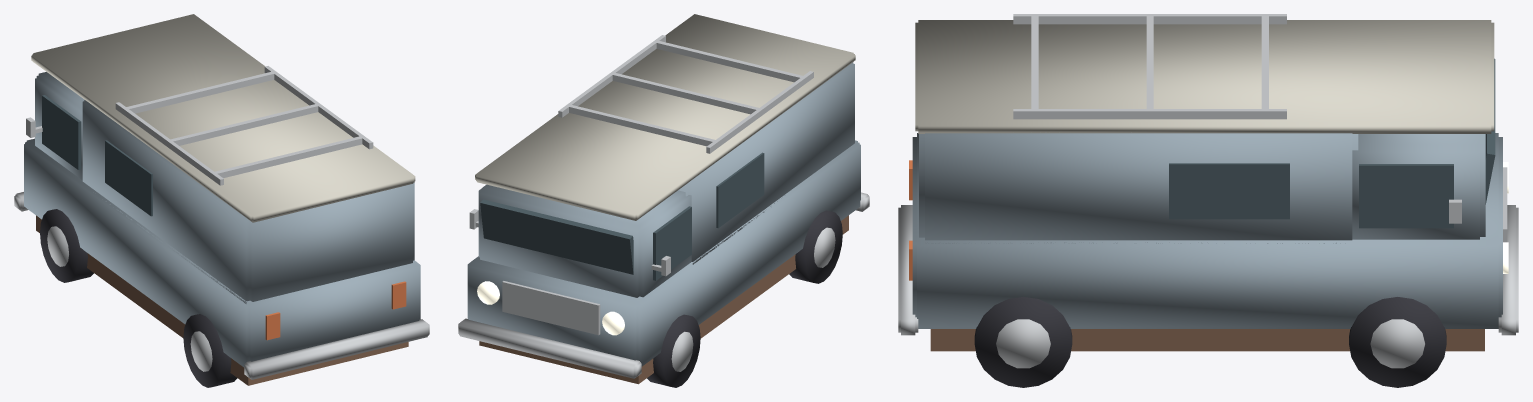
File: lada_van.glb
3 renders of one model, left to right at view 1: azimuth 30°, elevation 25°; view 2: azimuth 150°, elevation 25°; view 3: azimuth 270°, elevation 25°, orthographic. The views are drawn at different scales.
Visible parts, largest first — view 1: RoofPanel, UpperVanShell, LowerBody, RearBumper, Chassis, CargoSlotGlass_L, DoorGlass_L, Tire_-0.8_-1.3, Tire_-0.8_1.3, CabUpper, RoofBar_-0.4, RoofBar_-1.2 (+7 smaller); view 2: RoofPanel, LowerBody, UpperVanShell, CabUpper, Windshield, FrontBumper, Grille, Chassis, CargoSlotGlass_L, Tire_-0.8_-1.3, Tire_-0.8_1.3, DoorGlass_L (+9 smaller); view 3: RoofPanel, LowerBody, UpperVanShell, Chassis, CabUpper, CargoSlotGlass_R, DoorGlass_R, Tire_0.8_-1.3, Tire_0.8_1.3, RackRailR, RackRailL, Rim_0.8_-1.3 (+7 smaller).
Boxes of the visible parts, box(x1,y1,x2,y2) form: RoofPanel: box(31, 14, 415, 222); UpperVanShell: box(82, 100, 414, 303); LowerBody: box(24, 138, 420, 367); RearBumper: box(244, 319, 429, 379); Chassis: box(36, 215, 408, 385); CargoSlotGlass_L: box(105, 140, 152, 216); DoorGlass_L: box(42, 95, 81, 169); Tire_-0.8_-1.3: box(183, 314, 237, 387); Tire_-0.8_1.3: box(40, 209, 93, 282); CabUpper: box(35, 72, 84, 180); RoofBar_-0.4: box(169, 104, 318, 145); RoofBar_-1.2: box(215, 136, 364, 178); RoofPanel: box(475, 14, 855, 220); LowerBody: box(467, 140, 860, 366); UpperVanShell: box(678, 62, 854, 264); CabUpper: box(478, 184, 691, 297); Windshield: box(480, 199, 633, 274); FrontBumper: box(458, 318, 641, 378); Grille: box(502, 281, 600, 335); Chassis: box(479, 215, 848, 384); CargoSlotGlass_L: box(716, 152, 764, 228); Tire_-0.8_-1.3: box(789, 210, 842, 283); Tire_-0.8_1.3: box(647, 314, 700, 387); DoorGlass_L: box(653, 206, 691, 280); RoofPanel: box(915, 20, 1494, 133); LowerBody: box(912, 133, 1502, 328); UpperVanShell: box(919, 133, 1358, 243); Chassis: box(930, 329, 1484, 351); CabUpper: box(1352, 134, 1485, 239); CargoSlotGlass_R: box(1169, 163, 1289, 219); DoorGlass_R: box(1359, 164, 1453, 228); Tire_0.8_-1.3: box(974, 297, 1072, 387); Tire_0.8_1.3: box(1349, 297, 1446, 387); RackRailR: box(1013, 109, 1286, 119); RackRailL: box(1013, 14, 1286, 24); Rim_0.8_-1.3: box(996, 319, 1050, 368).
Bounding box in the file's own units: 2.07 × 2.05 × 4.31.
